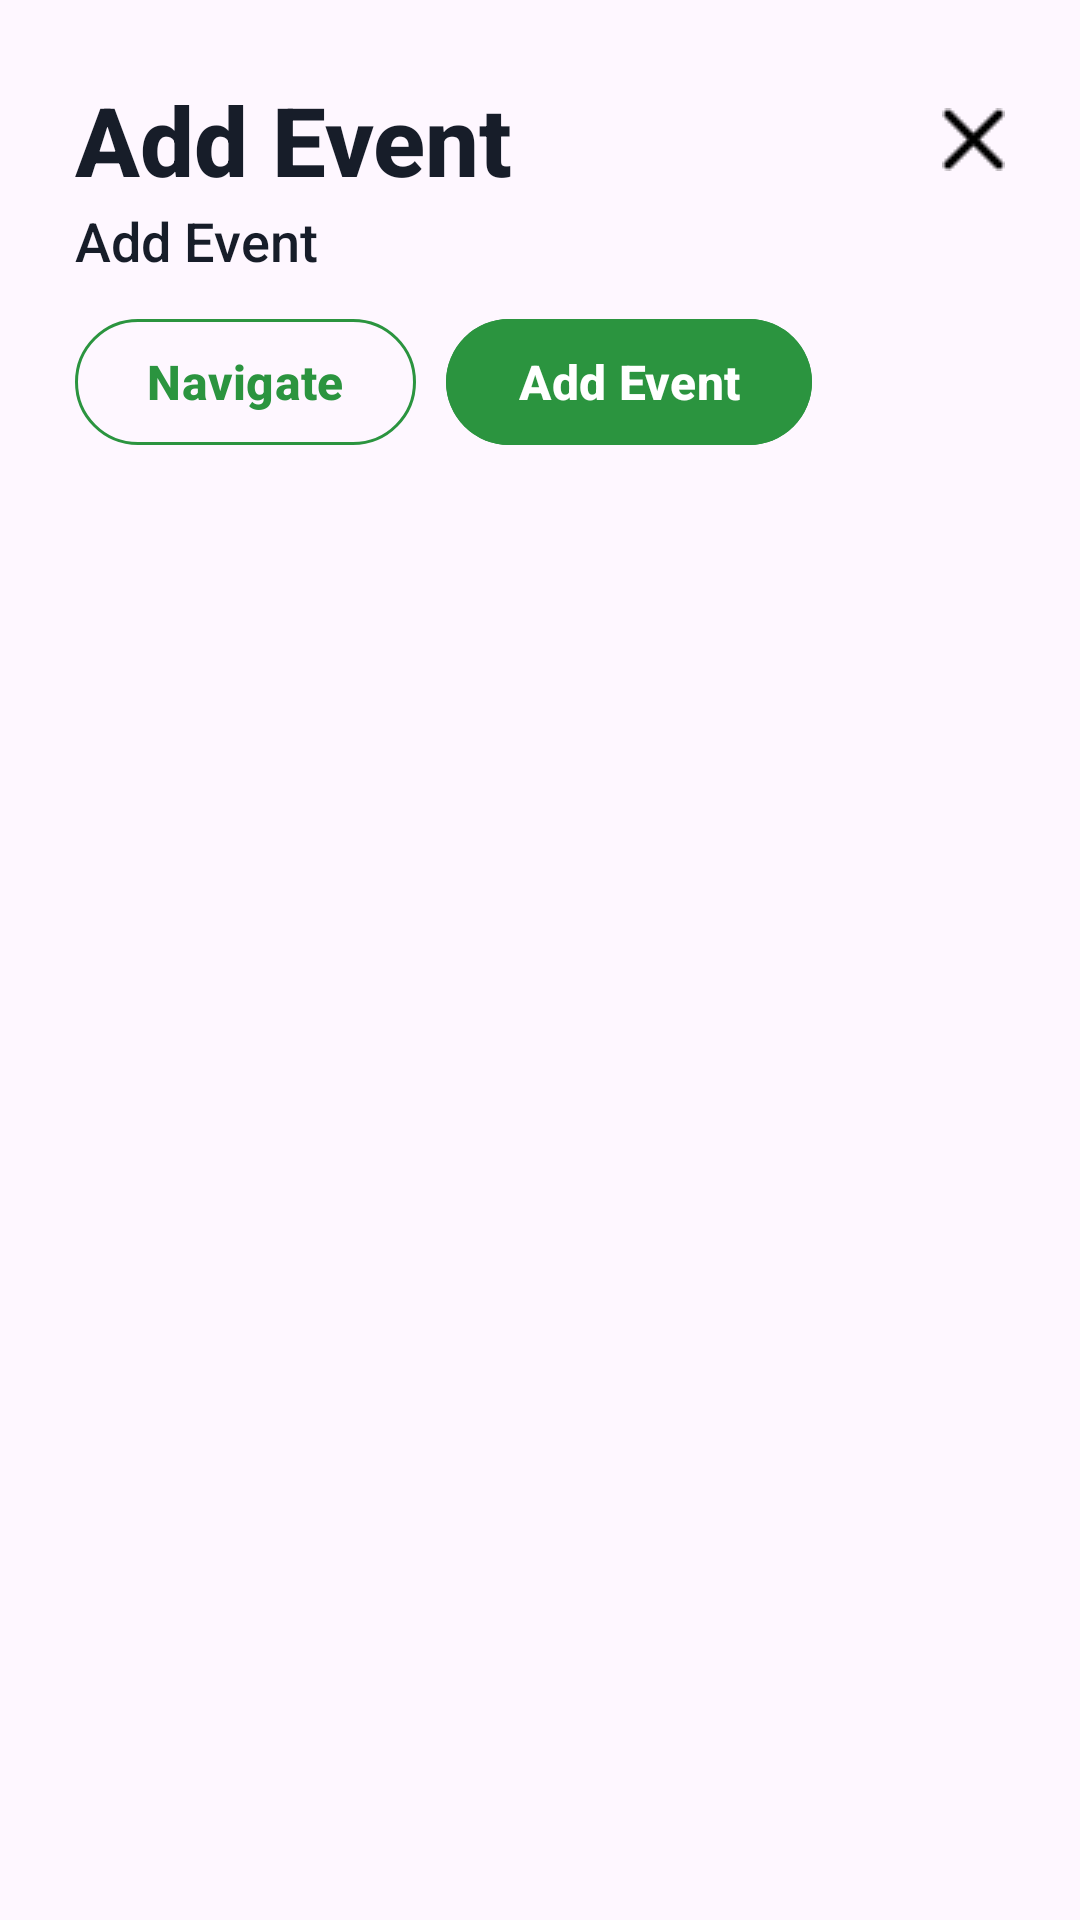

Named icons in this screenshot (1080x1920) and their centers, (x,y):
close: (973,139)
